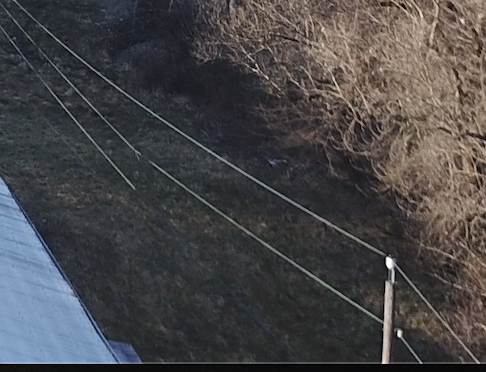pole: (356, 239, 419, 365)
